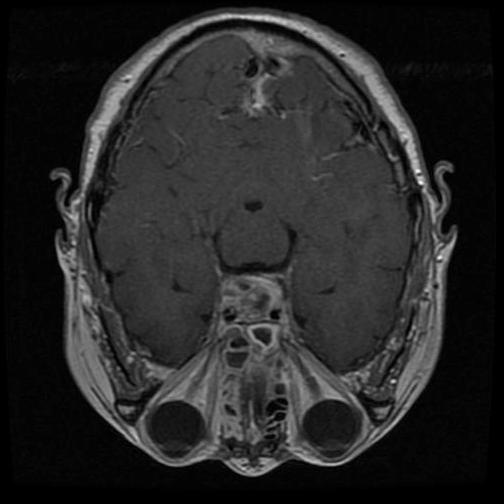Tumour-Pituitary: (203, 273, 300, 334)
